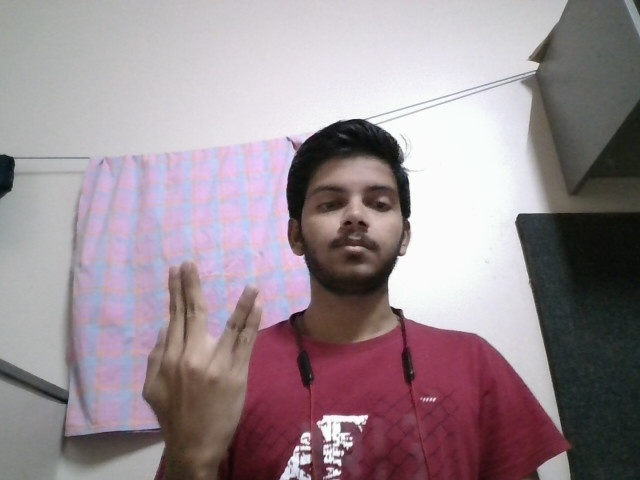Live Long: (135, 256, 267, 437)
